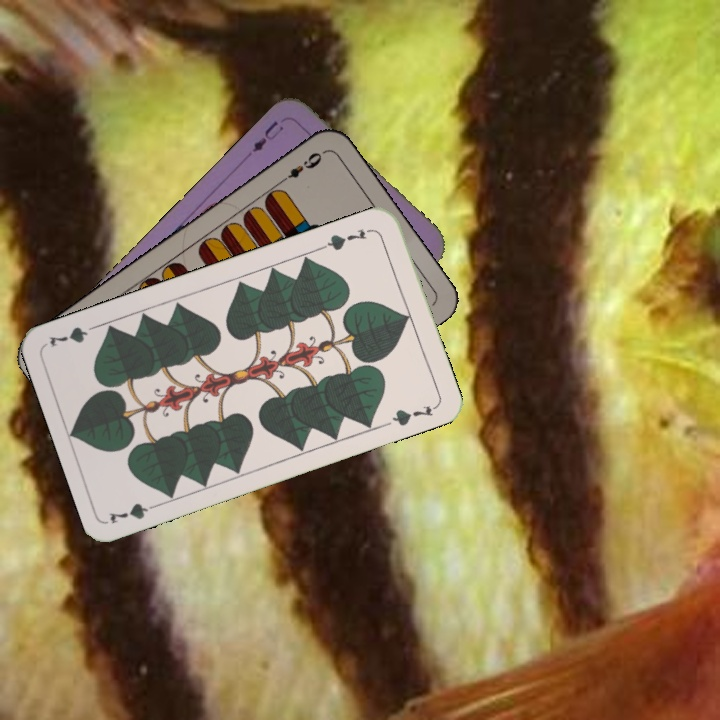E9: (275, 148, 325, 187)
EU: (243, 117, 287, 159)
G7: (105, 498, 164, 527), (318, 225, 369, 253)
